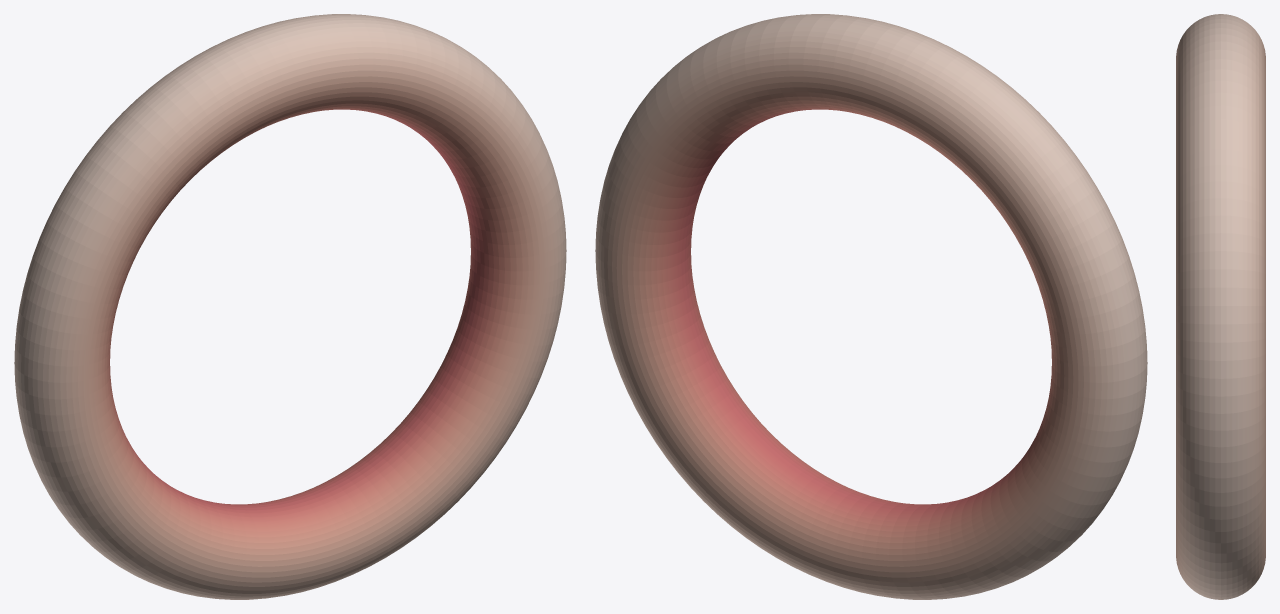
3 renders of one model, left to right at view 1: azimuth 30°, elevation 25°; view 2: azimuth 150°, elevation 25°; view 3: azimuth 270°, elevation 25°, orthographic. The views are drawn at different scales.
Visible parts, largest first — view 1: world; view 2: world; view 3: world.
Boxes of the visible parts, x1,y1,x2,y2 form: world: (14, 14, 566, 599); world: (595, 14, 1147, 599); world: (1176, 14, 1265, 599).
Bounding box in the file's own units: 33.87 × 33.87 × 5.19.
